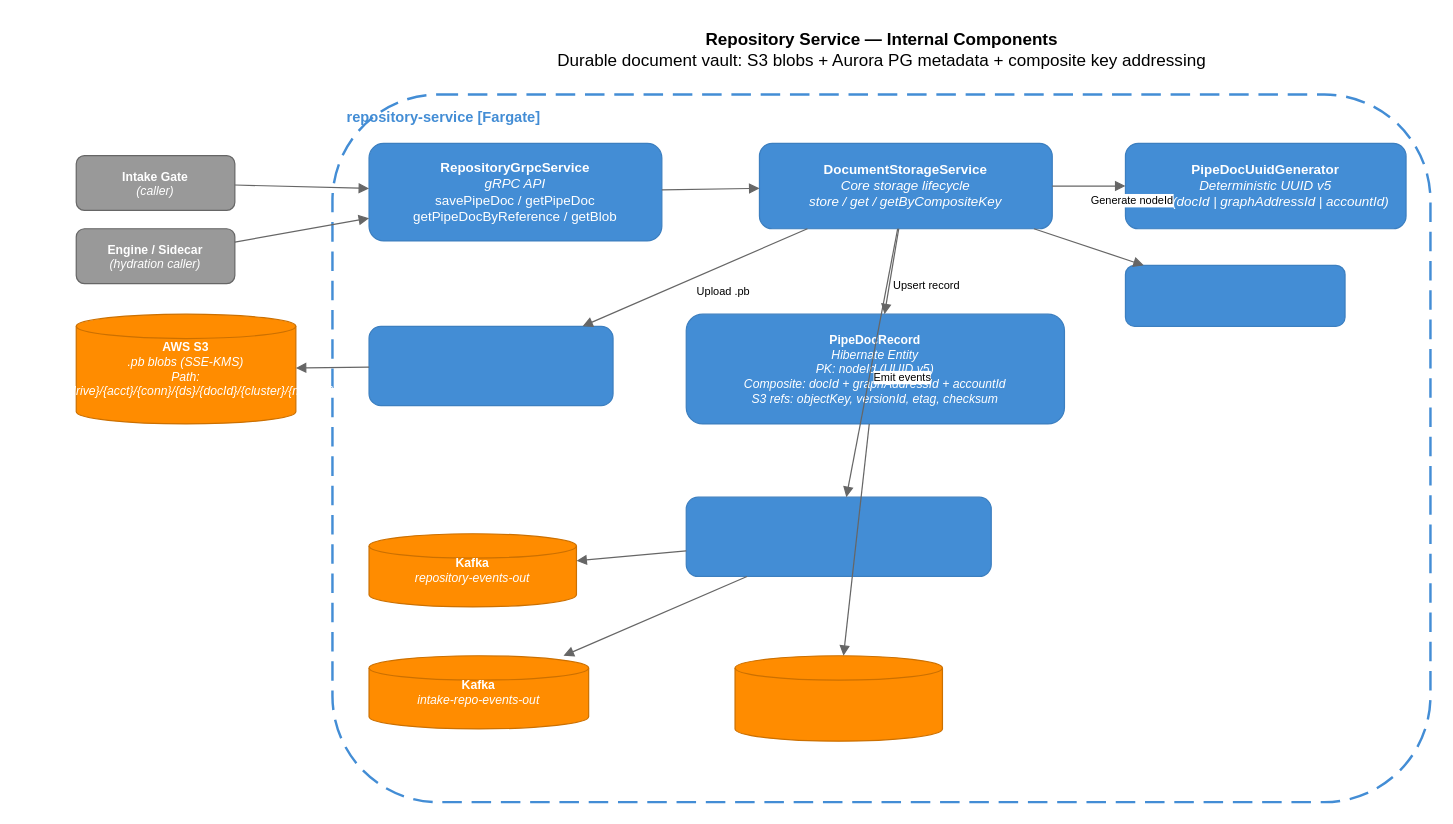
Image size: 1453x824. Some labels were removed from this diagram. Here are the shapes that lost their labels. From the top down, the centre of each, then its label:
(1234,295): AccountCacheService Account validation
(490,365): S3AsyncClient putObject / getObject Protobuf binary (.pb)
(838,536): RepositoryEventEmitter Kafka producer Created / Updated / Deleted events
(838,698): Aurora PostgreSQL PipeDocRecord table Multi-AZ
